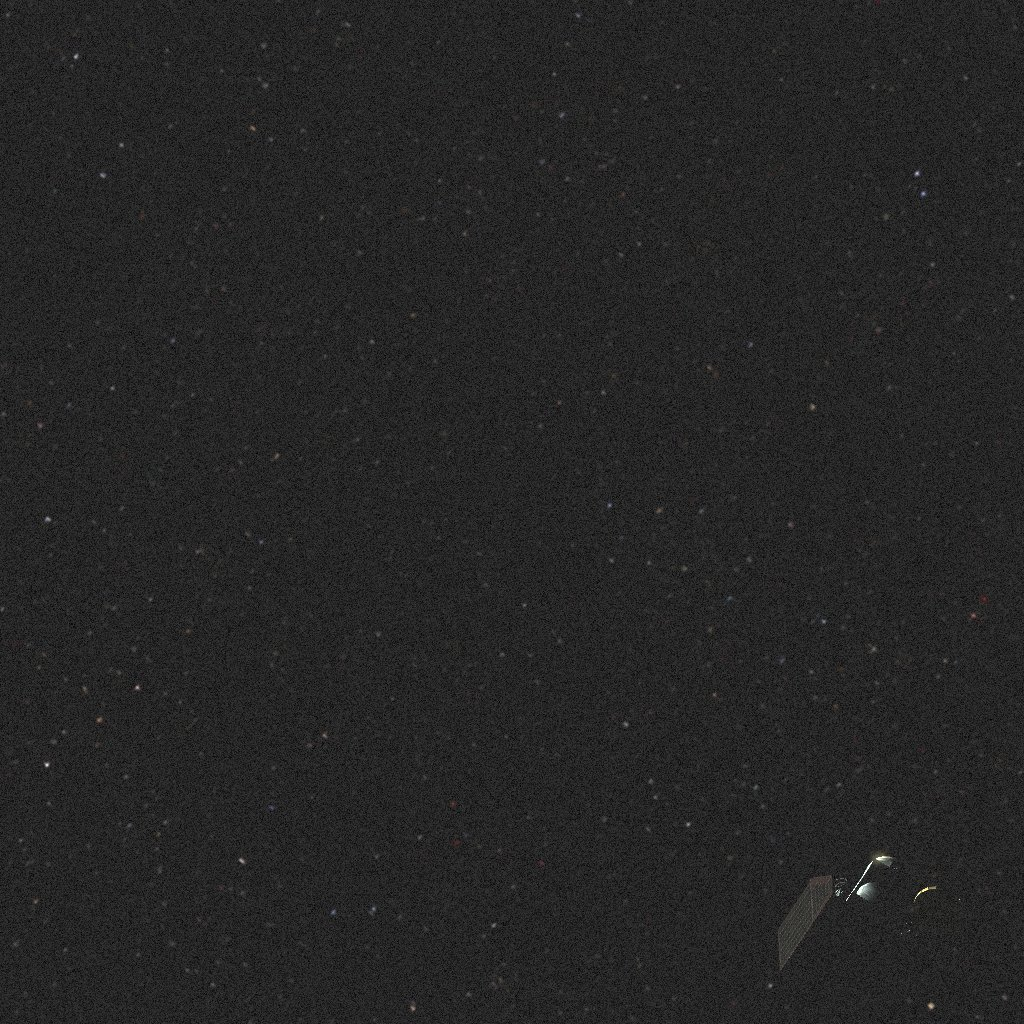cheops: (778, 857, 969, 1024)
